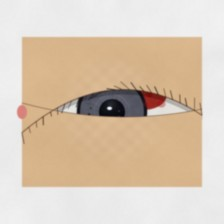hemorrhage_spot: (113, 70, 175, 120)
